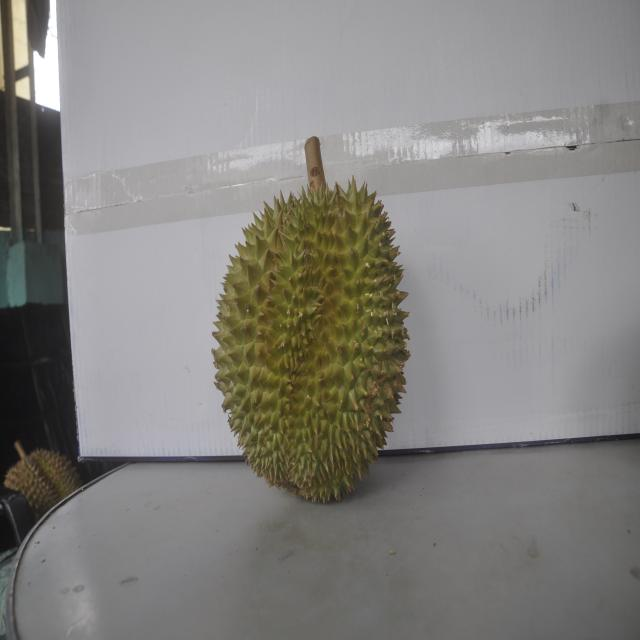mature: (213, 157, 411, 504), (5, 444, 83, 521)
